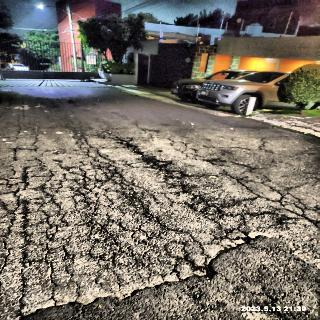alligator-crack: (15, 130, 265, 316)
